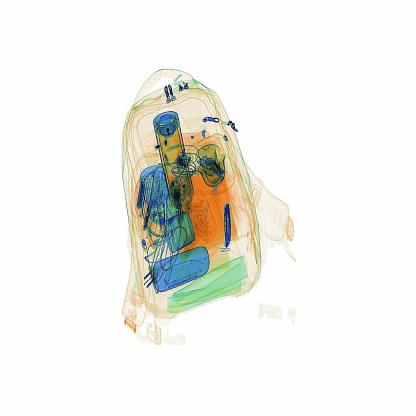knife: (217, 191, 240, 258)
